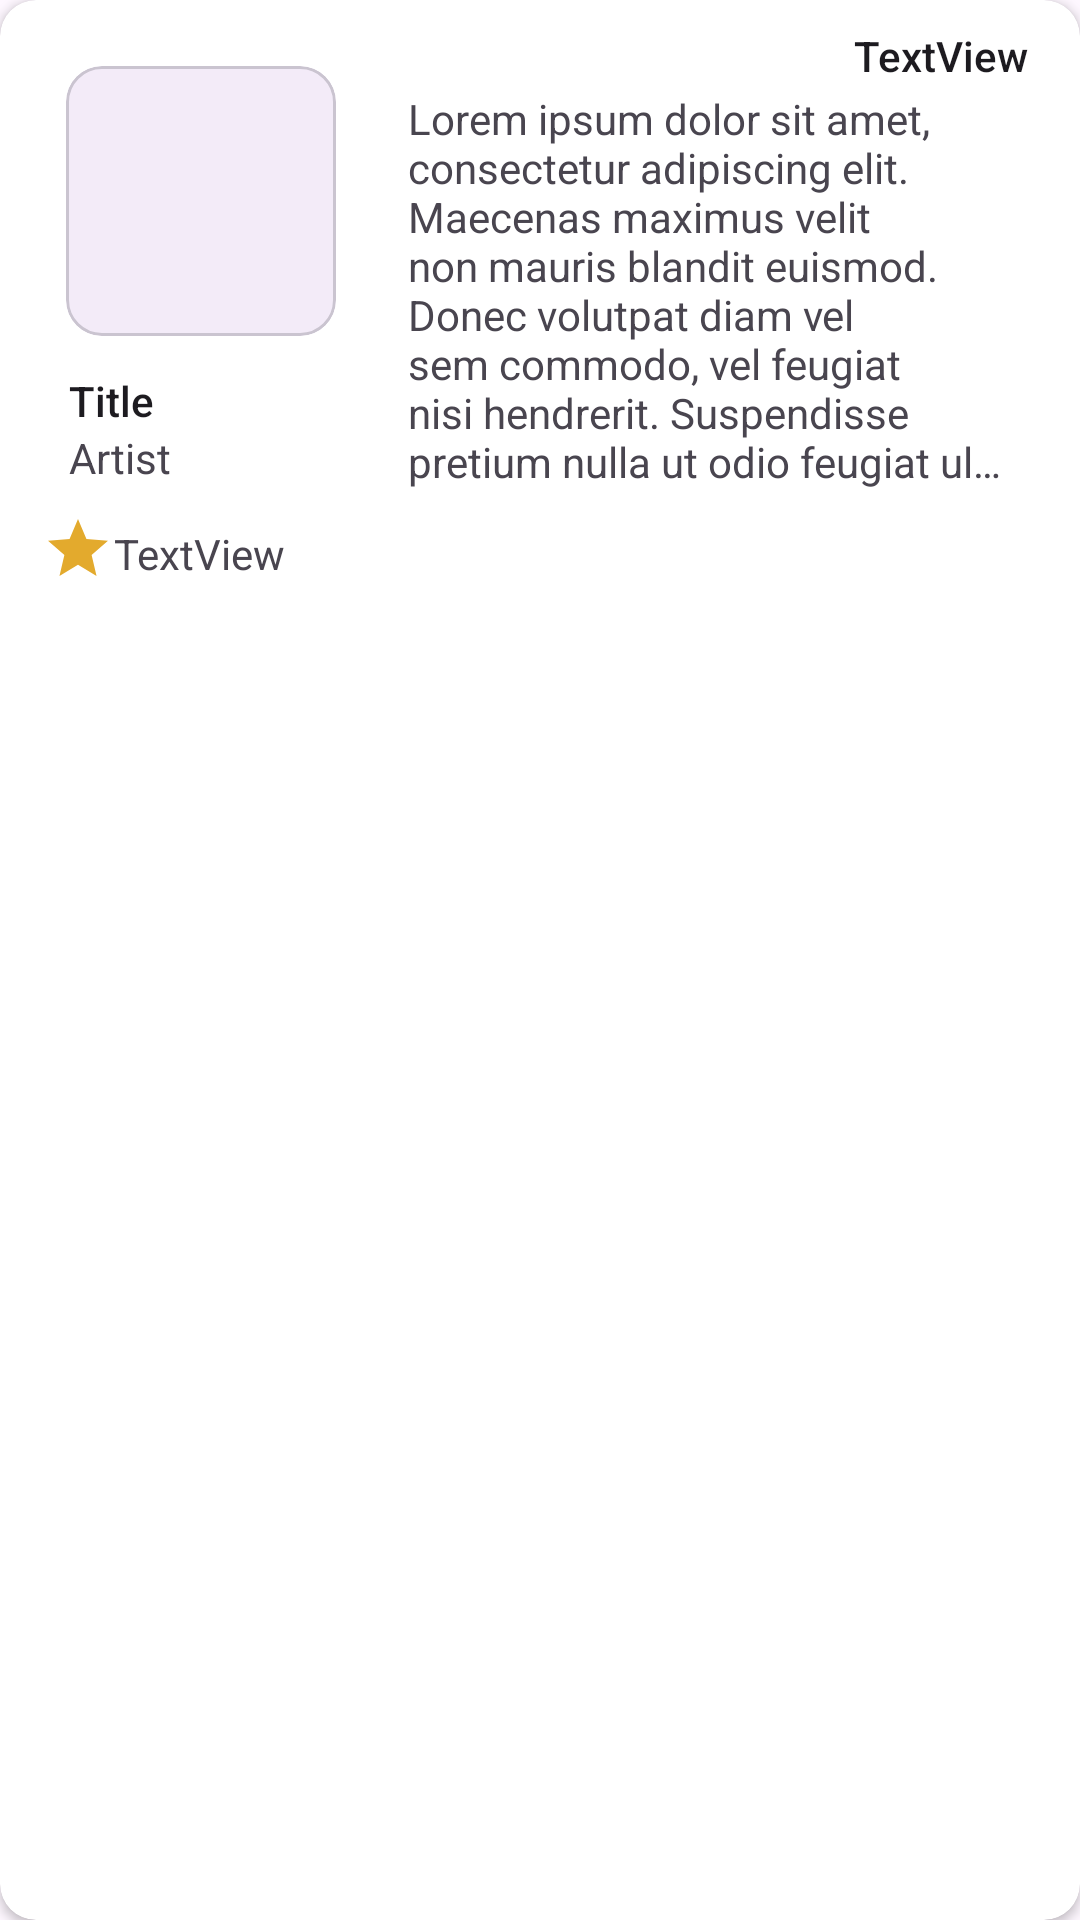

Icon click points for this 1080x1920 phone screenshot, format (x=x, y=y):
star: (x=78, y=547)
